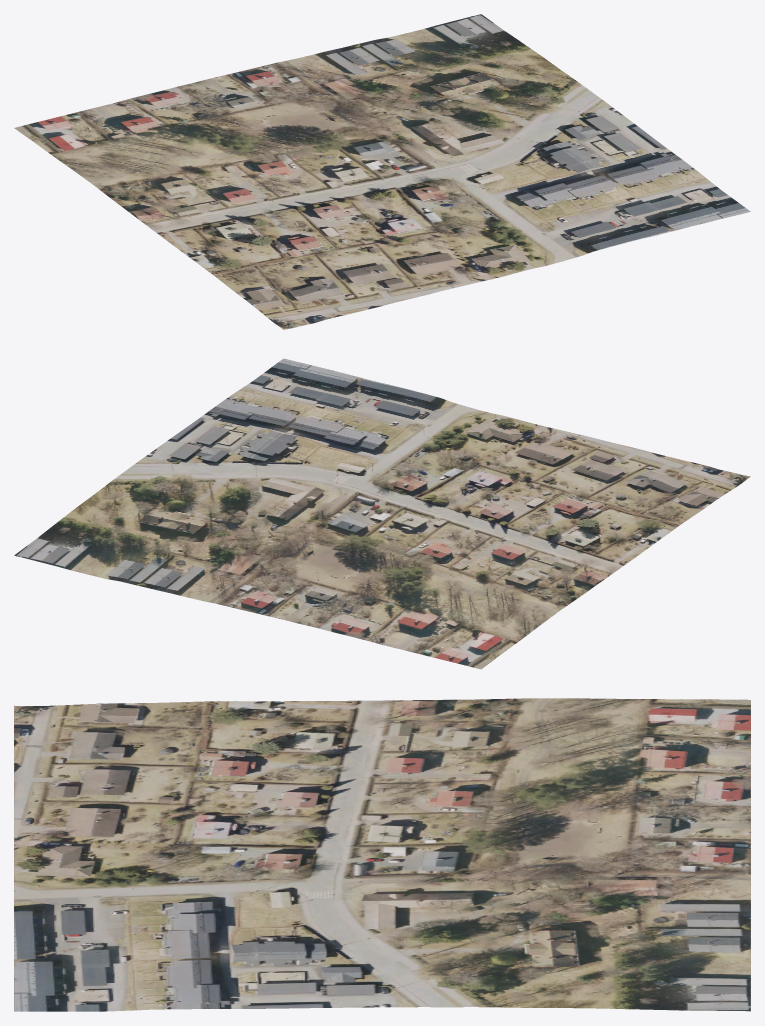
The model's file is CM_Terrain_24490254_6818565.fbx.
3 renders of one model, top to bottom at view 1: azimuth 30°, elevation 25°; view 2: azimuth 150°, elevation 25°; view 3: azimuth 270°, elevation 25°, orthographic. The views are drawn at different scales.
Visible parts, largest first — view 1: CM_Terrain_24490254_6818565_LOD0; view 2: CM_Terrain_24490254_6818565_LOD0; view 3: CM_Terrain_24490254_6818565_LOD0.
Part boxes in pixels (x1,y1,x2,y2): CM_Terrain_24490254_6818565_LOD0: (14, 14, 750, 329); CM_Terrain_24490254_6818565_LOD0: (14, 358, 750, 669); CM_Terrain_24490254_6818565_LOD0: (14, 698, 750, 1011).
Size of what is drawn, in the model's own units: 205 by 4.45 by 205.
